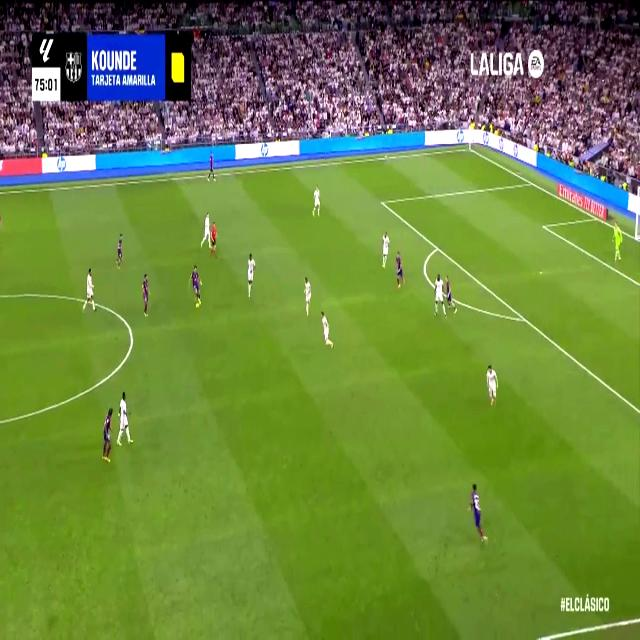bigarea_top_inner: (378, 194, 386, 209)
bigarea_top_outter: (527, 176, 535, 188)
bottom_arc_area_intersection: (518, 309, 528, 327)
corner: (465, 144, 473, 154)
smallarea_top_inner: (539, 218, 547, 232)
top_arc_area_intersection: (434, 240, 440, 254)
